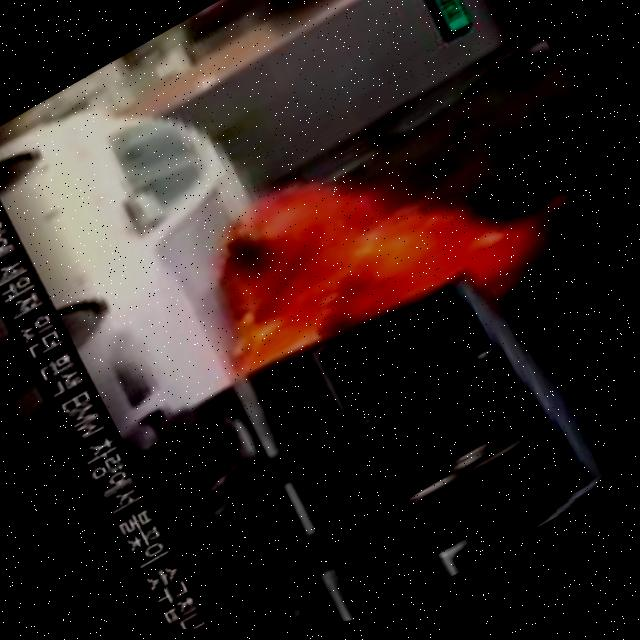Fire: (198, 115, 519, 414)
